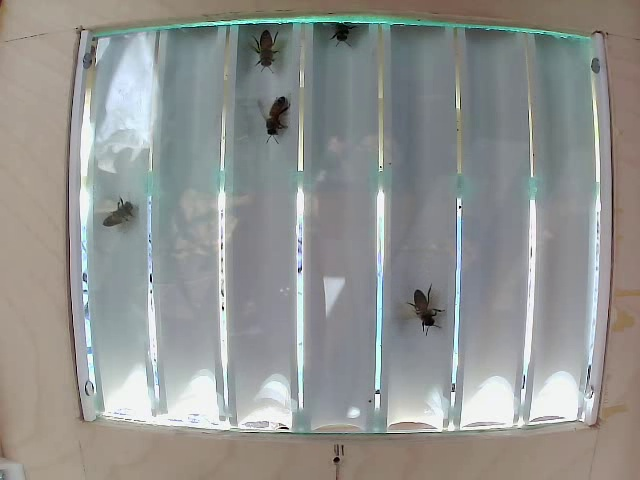bee: (246, 88, 301, 162), (245, 27, 290, 91), (101, 197, 148, 246), (409, 287, 439, 334)
